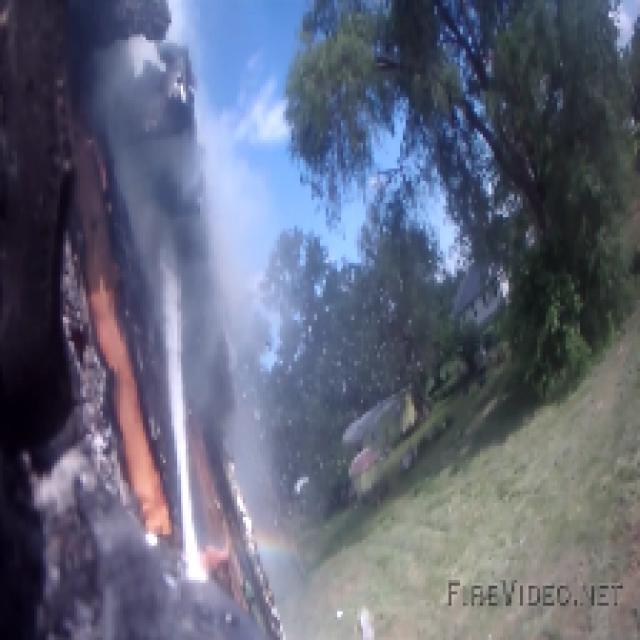Smoke: (123, 60, 220, 312)
